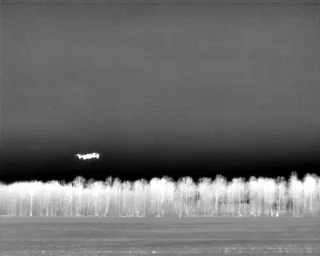DRONE: (72, 148, 104, 164)
